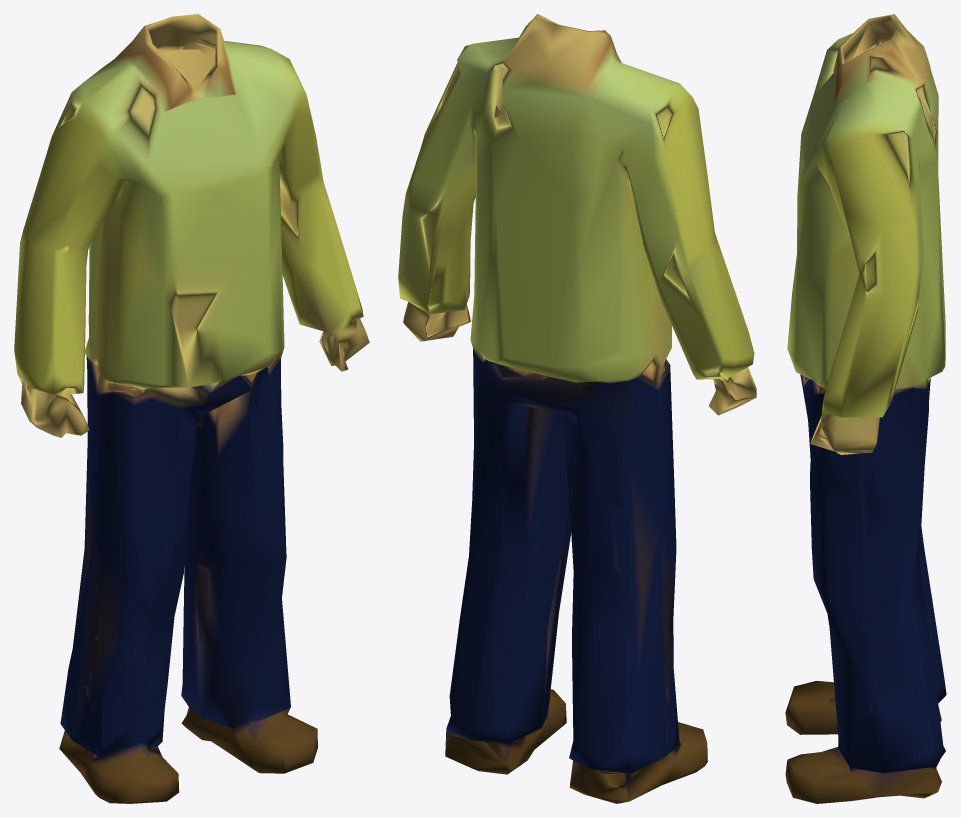
Rendered from gen3d-outfit-lod0.glb.
The picture shows the model from 3 angles, left to right: view 1: azimuth 30°, elevation 25°; view 2: azimuth 150°, elevation 25°; view 3: azimuth 270°, elevation 25°; orthographic projection. The views are drawn at different scales.
Parts seen in each view (by area): view 1: part_0; view 2: part_0; view 3: part_0.
Boxes of the visible parts, box(x1,y1,x2,y2) form: part_0: box(14, 14, 369, 803); part_0: box(398, 14, 756, 803); part_0: box(785, 14, 946, 803).
Bounding box in the file's own units: 0.4795 × 0.9992 × 0.2002.
